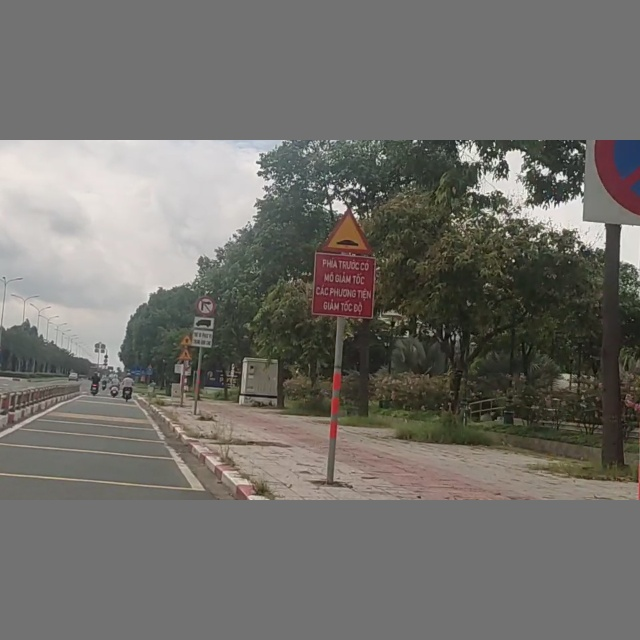P.123b: (196, 297, 215, 315)
S.505a*Xe tai: (192, 315, 214, 349)
W.207: (179, 335, 193, 346)
W.221b: (321, 205, 375, 254)
W.224: (178, 348, 193, 361)
